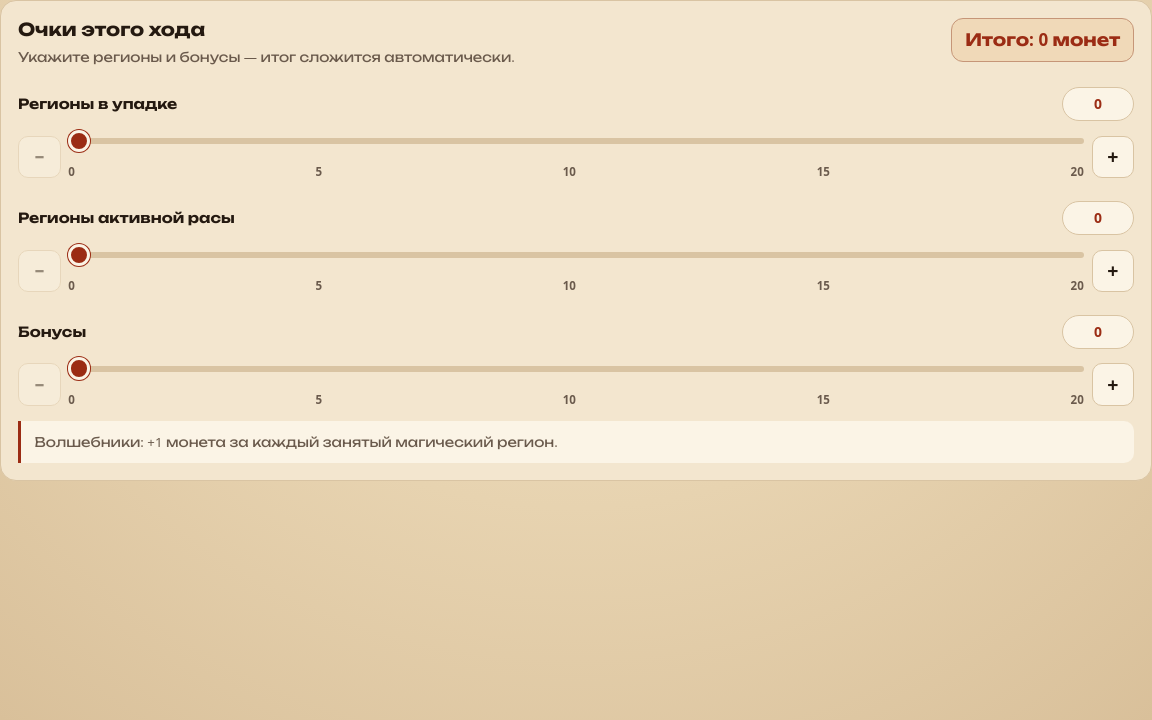
Test: TurnScoreInput › gives bonuses the same slider and side buttons as the region rows
Click the button named "Увеличить: Бонусы" at [1113, 385], box [1092,364,1134,406]
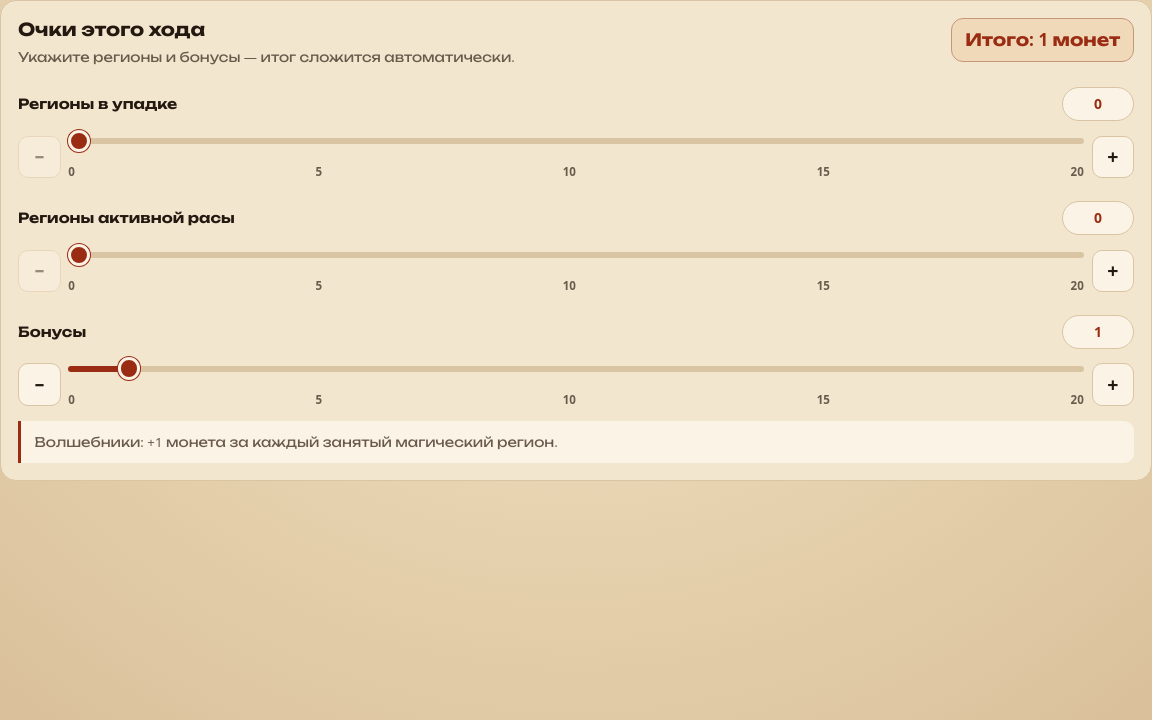
Now the text "Итого: 1 монет" is shown, box [951,18,1134,62]
